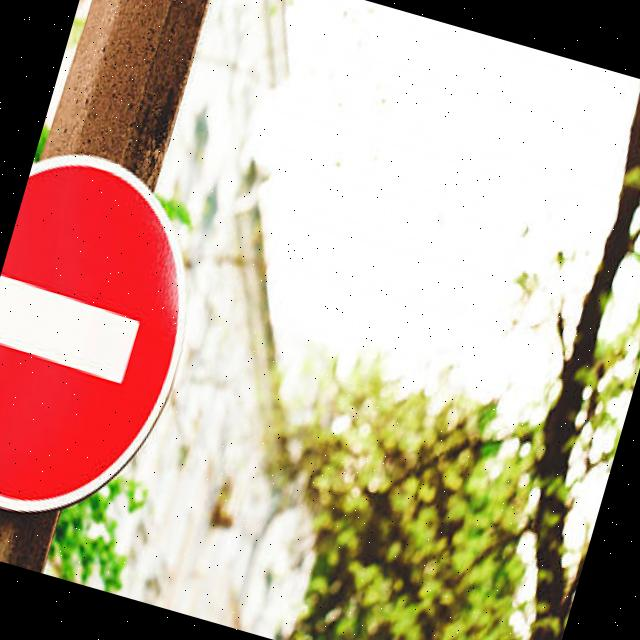do_not_enter: (0, 130, 237, 559)
